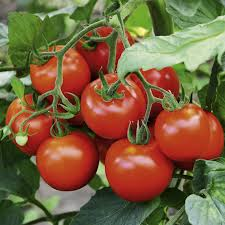stems: (135, 103, 153, 142), (106, 69, 130, 96), (34, 89, 52, 112), (53, 95, 61, 139), (153, 96, 178, 109), (35, 49, 57, 61), (85, 34, 108, 45)
tomato: (153, 103, 225, 167), (105, 136, 174, 202), (81, 73, 148, 140), (5, 93, 68, 157), (36, 129, 99, 191), (28, 45, 91, 104), (75, 25, 134, 75), (128, 65, 179, 119)
